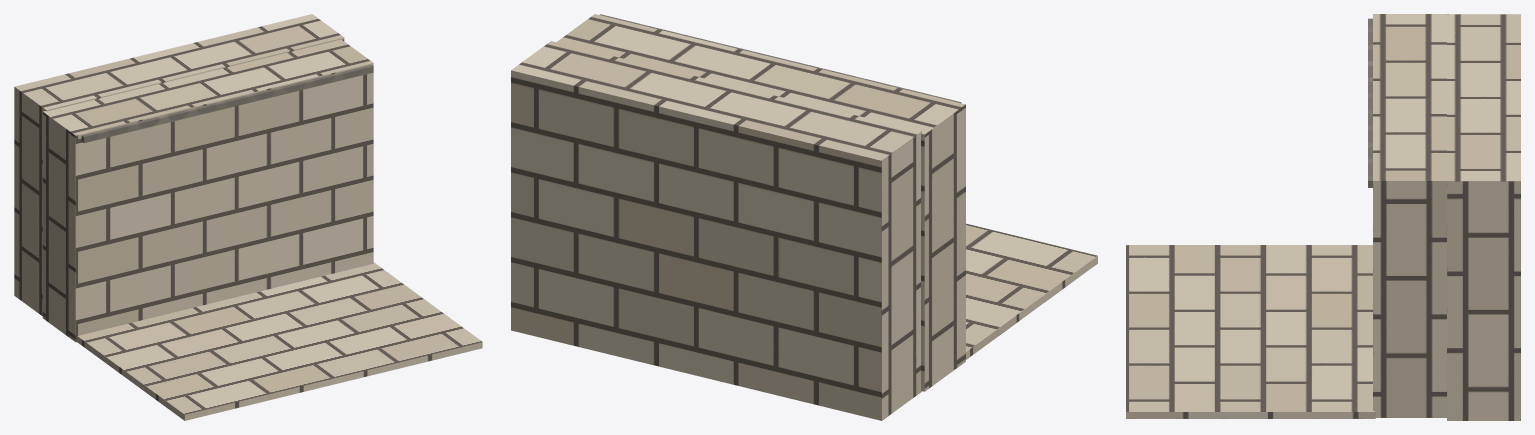
Rendered from castle_curtain.glb.
The picture shows the model from 3 angles, left to right: view 1: azimuth 30°, elevation 25°; view 2: azimuth 150°, elevation 25°; view 3: azimuth 270°, elevation 25°; orthographic projection. The views are drawn at different scales.
Parts seen in each view (by area): view 1: castle_curtain; view 2: castle_curtain; view 3: castle_curtain.
Part boxes in pixels (x1,y1,x2,y2): castle_curtain: [14, 14, 482, 420]; castle_curtain: [511, 14, 1097, 420]; castle_curtain: [1126, 14, 1520, 420].
Size of the model in its own units: 4.04 by 2.68 by 4.
Materials: 1 (1 with a texture image).
